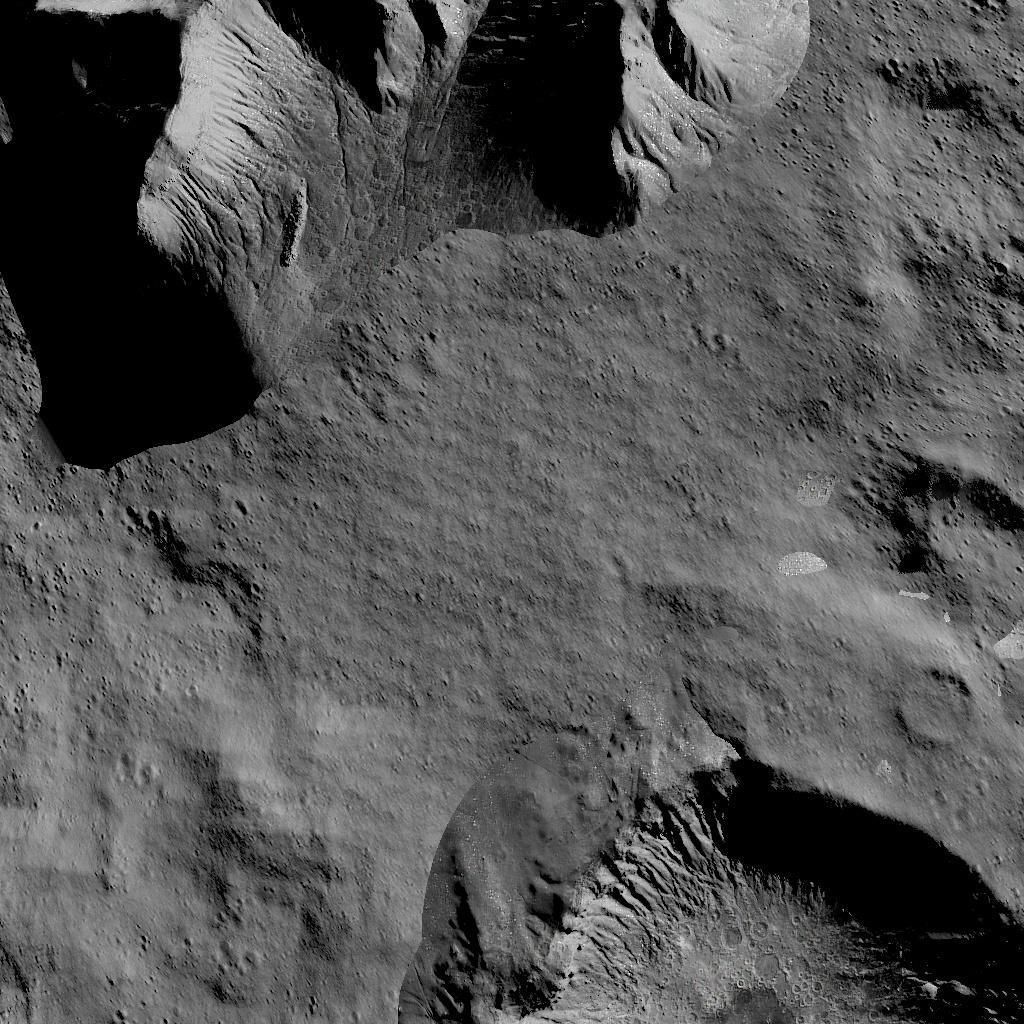Boulders: (29, 0, 817, 452)
Crater: (463, 716, 1024, 1024), (871, 426, 1024, 614)
Plan surface: (4, 518, 436, 1002), (476, 474, 840, 672), (855, 0, 1024, 384)
